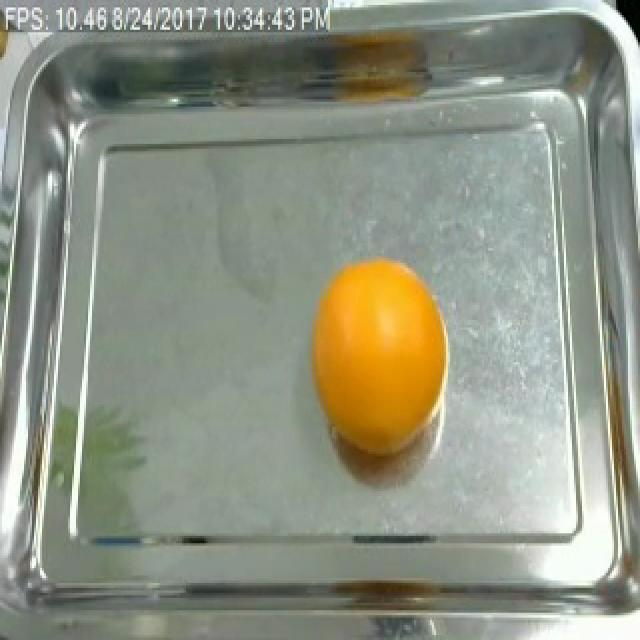Fruit: (298, 246, 458, 494)
